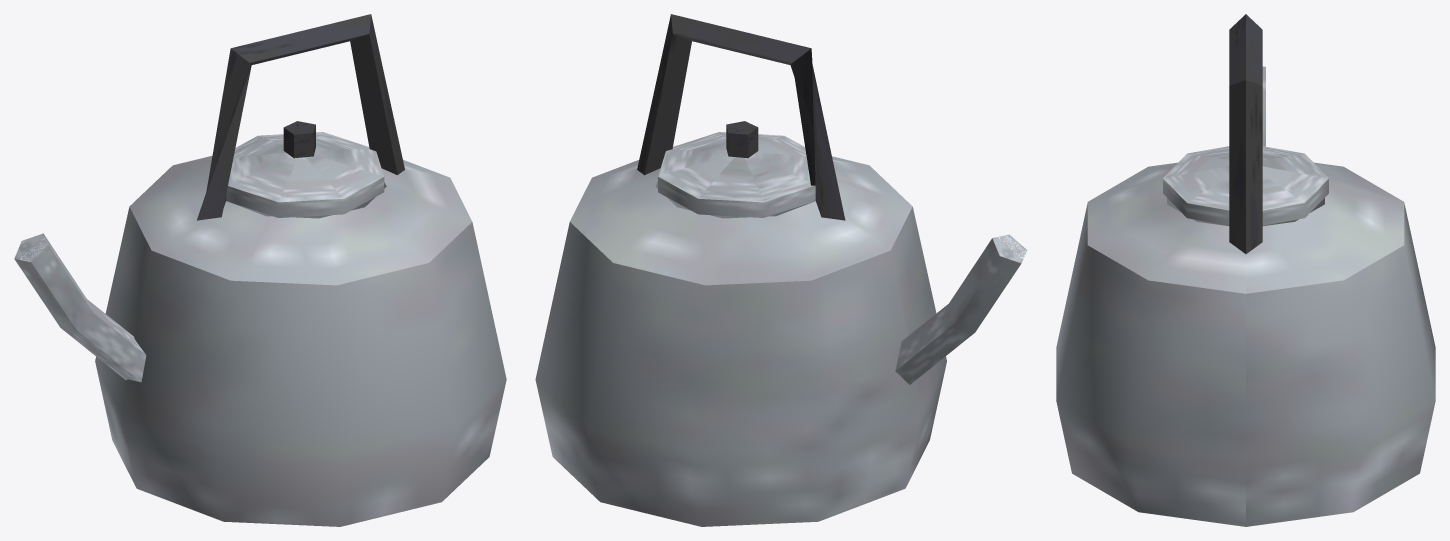
File: kettle_stove.obj
3 renders of one model, left to right at view 1: azimuth 30°, elevation 25°; view 2: azimuth 150°, elevation 25°; view 3: azimuth 270°, elevation 25°, orthographic. The views are drawn at different scales.
Visible parts, largest first — view 1: kettle_stove, kettle_stove_lid; view 2: kettle_stove, kettle_stove_lid; view 3: kettle_stove, kettle_stove_lid.
Boxes of the visible parts, left/top/right/bottom form: kettle_stove: left=14, top=14, right=506, bottom=526; kettle_stove_lid: left=226, top=121, right=384, bottom=217; kettle_stove: left=535, top=14, right=1027, bottom=526; kettle_stove_lid: left=658, top=121, right=815, bottom=217; kettle_stove: left=1056, top=14, right=1435, bottom=526; kettle_stove_lid: left=1163, top=146, right=1328, bottom=225.
Size of the model in its own units: 0.3098 by 0.2671 by 0.2283.
1 material, 1 textured.
